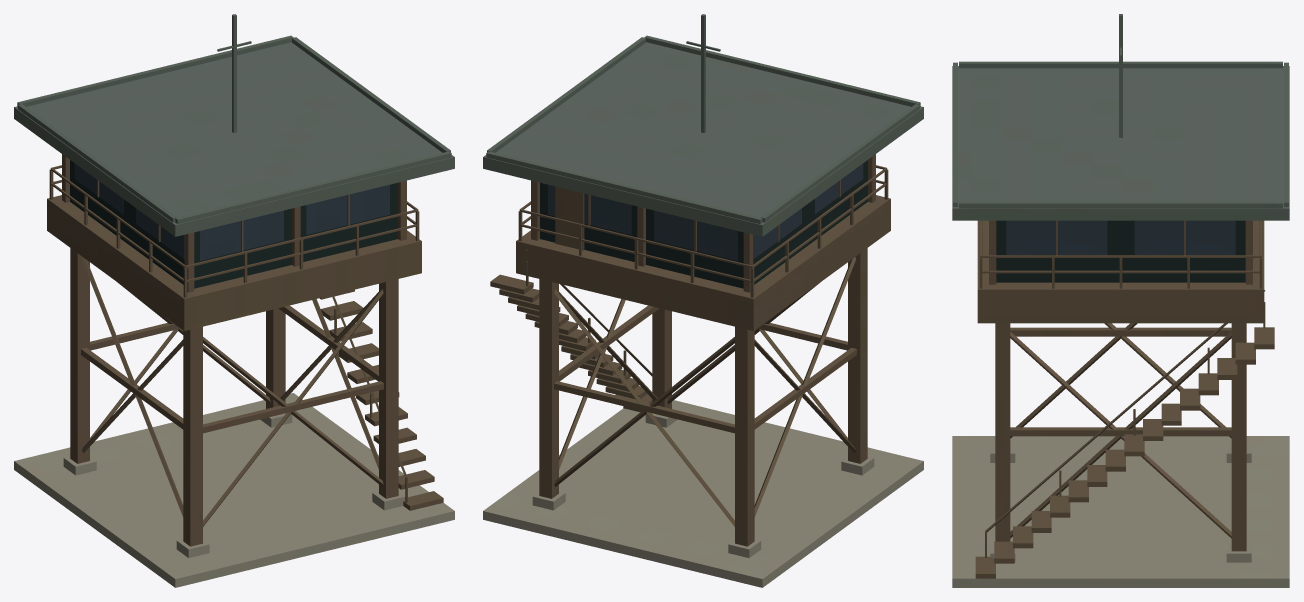
The model's file is tower.glb.
3 renders of one model, left to right at view 1: azimuth 30°, elevation 25°; view 2: azimuth 150°, elevation 25°; view 3: azimuth 270°, elevation 25°, orthographic. The views are drawn at different scales.
Parts seen in each view (by area): view 1: tower_concrete; view 2: tower_concrete; view 3: tower_concrete.
Boxes of the visible parts, x1=… form: tower_concrete: x1=14, y1=14, x2=454, y2=587; tower_concrete: x1=483, y1=14, x2=923, y2=587; tower_concrete: x1=952, y1=14, x2=1289, y2=587.
Size of the model in its own units: 10 by 16.4 by 10.
1 material, 1 textured.
